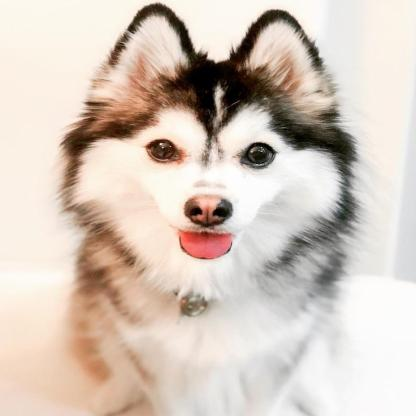dog: (62, 9, 357, 416)
